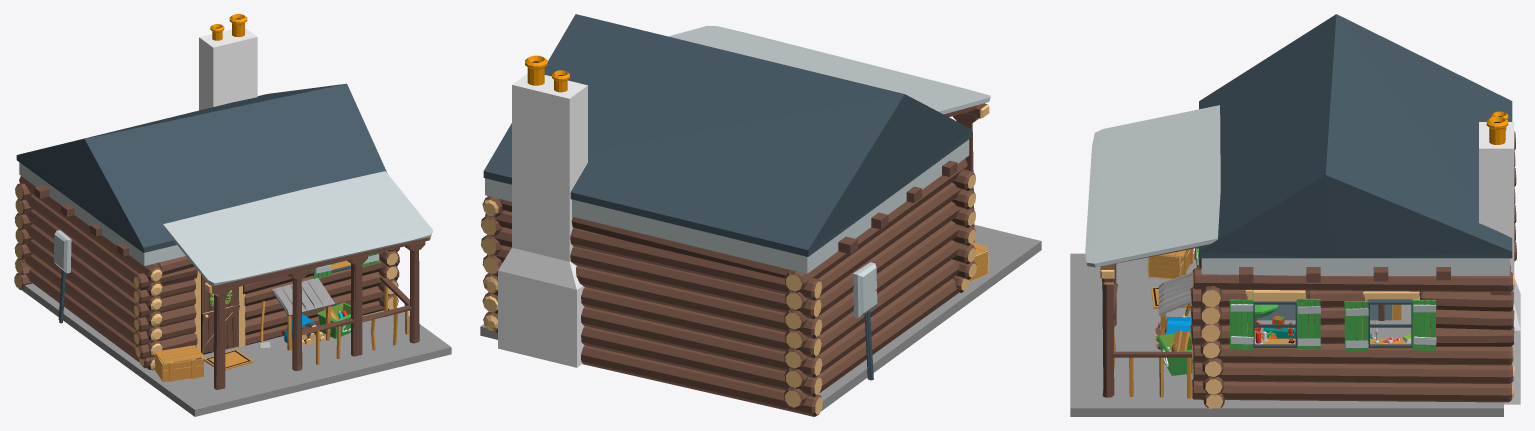
The model's file is Christmas Cabin.glb.
3 views of the same model, side by side, from view 1: azimuth 30°, elevation 25°; view 2: azimuth 150°, elevation 25°; view 3: azimuth 270°, elevation 25° (orthographic). The views are drawn at different scales.
Visible parts, largest first — view 1: group155880449, group1249612197, group1586743875, group1250466418, group14942143, group385332886, group690343594, group2096568958, group1317001952, group1843786430, group286457790, group1796488872 (+24 smaller); view 2: group385332886, group1317001952, group14942143, group1250466418, group690343594, group1249612197, group1586743875, group155880449, group386898959, group2145860086, group1418661774; view 3: group385332886, group155880449, group1586743875, group1249612197, group832684256, group1700492783, group1856994920, group690343594, group730840630, group14942143, group1008650552, group2048264474 (+20 smaller).
Part boxes in pixels (left/top/right/bottom): group155880449: left=84, top=83, right=387, bottom=252; group1249612197: left=163, top=171, right=432, bottom=285; group1586743875: left=22, top=283, right=451, bottom=416; group1250466418: left=19, top=176, right=162, bottom=370; group14942143: left=199, top=28, right=257, bottom=110; group385332886: left=16, top=84, right=344, bottom=211; group690343594: left=19, top=162, right=185, bottom=265; group2096568958: left=201, top=275, right=239, bottom=354; group1317001952: left=14, top=183, right=32, bottom=289; group1843786430: left=205, top=237, right=430, bottom=293; group286457790: left=272, top=278, right=335, bottom=316; group1796488872: left=245, top=286, right=384, bottom=335; group385332886: left=483, top=14, right=904, bottom=256; group1317001952: left=570, top=228, right=822, bottom=416; group14942143: left=498, top=73, right=587, bottom=367; group1250466418: left=784, top=158, right=967, bottom=408; group690343594: left=485, top=139, right=969, bottom=273; group1249612197: left=668, top=25, right=990, bottom=116; group1586743875: left=480, top=224, right=1041, bottom=416; group155880449: left=900, top=94, right=972, bottom=188; group386898959: left=501, top=199, right=791, bottom=278; group2145860086: left=853, top=262, right=877, bottom=380; group1418661774: left=525, top=55, right=547, bottom=85; group385332886: left=1325, top=14, right=1512, bottom=258; group155880449: left=1199, top=14, right=1336, bottom=258; group1586743875: left=1070, top=253, right=1503, bottom=416; group1249612197: left=1085, top=105, right=1220, bottom=267; group832684256: left=1192, top=362, right=1514, bottom=383; group1700492783: left=1191, top=379, right=1513, bottom=402; group1856994920: left=1192, top=343, right=1513, bottom=365; group690343594: left=1201, top=258, right=1509, bottom=275; group730840630: left=1192, top=268, right=1514, bottom=291; group14942143: left=1479, top=122, right=1520, bottom=404; group1008650552: left=1229, top=298, right=1320, bottom=350; group2048264474: left=1420, top=291, right=1513, bottom=311.
Size of the model in its own units: 1.6 by 1.26 by 1.87.
